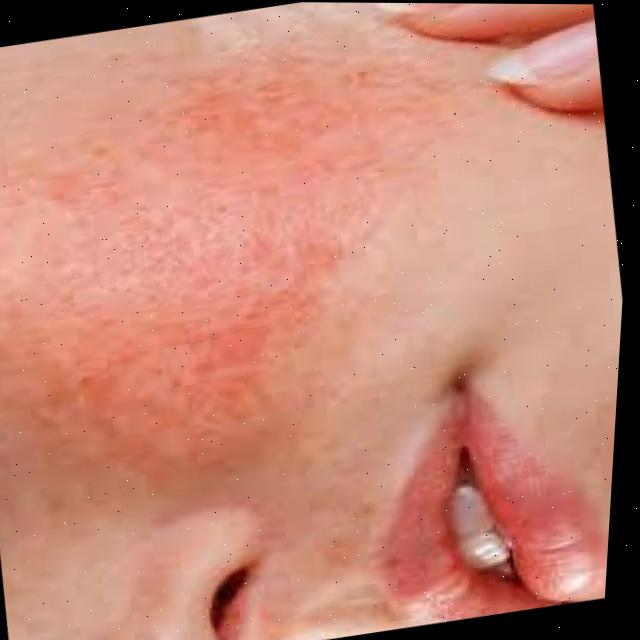Rosacea: (0, 82, 415, 490)
